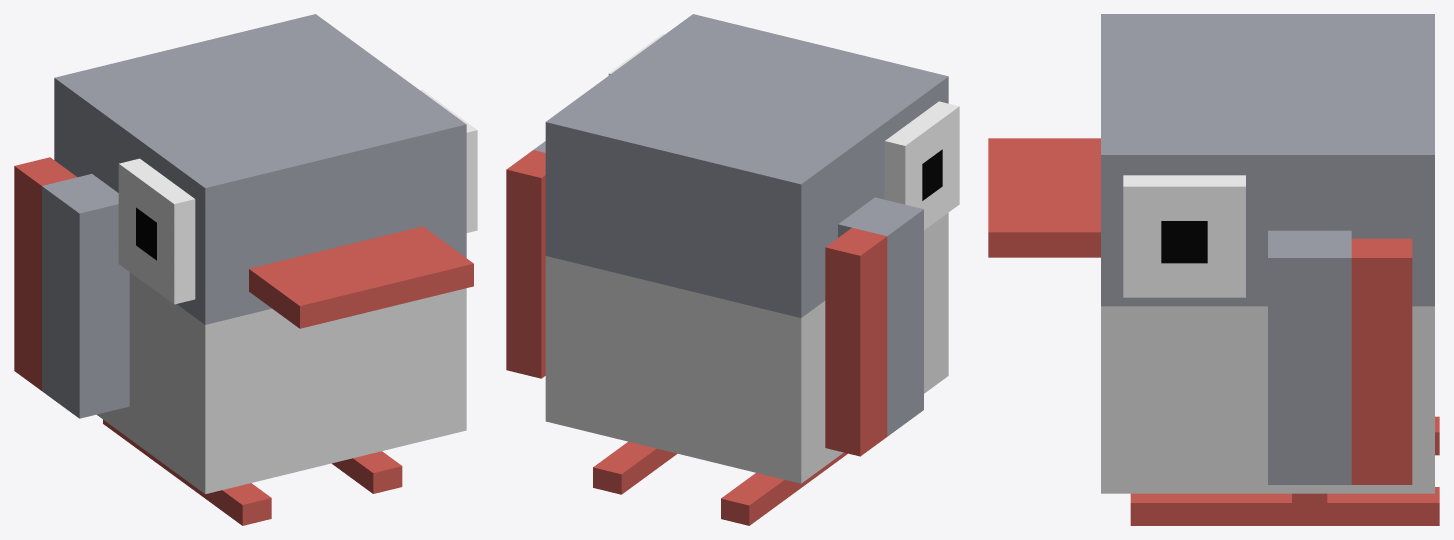
Rendered from bird.fbx.
3 views of the same model, side by side, from view 1: azimuth 30°, elevation 25°; view 2: azimuth 150°, elevation 25°; view 3: azimuth 270°, elevation 25° (orthographic). The views are drawn at different scales.
Parts seen in each view (by area): view 1: Cube.004; view 2: Cube.004; view 3: Cube.004.
Part boxes in pixels (<box>): Cube.004: <box>14,14,477,525</box>; Cube.004: <box>506,14,959,525</box>; Cube.004: <box>988,14,1439,525</box>.
Size of the model in its own units: 1.19 by 1.13 by 1.16.
